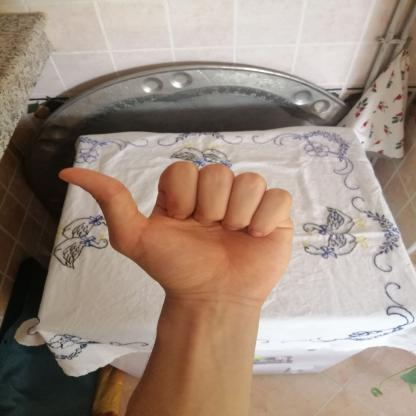DAD: (46, 146, 308, 312)
